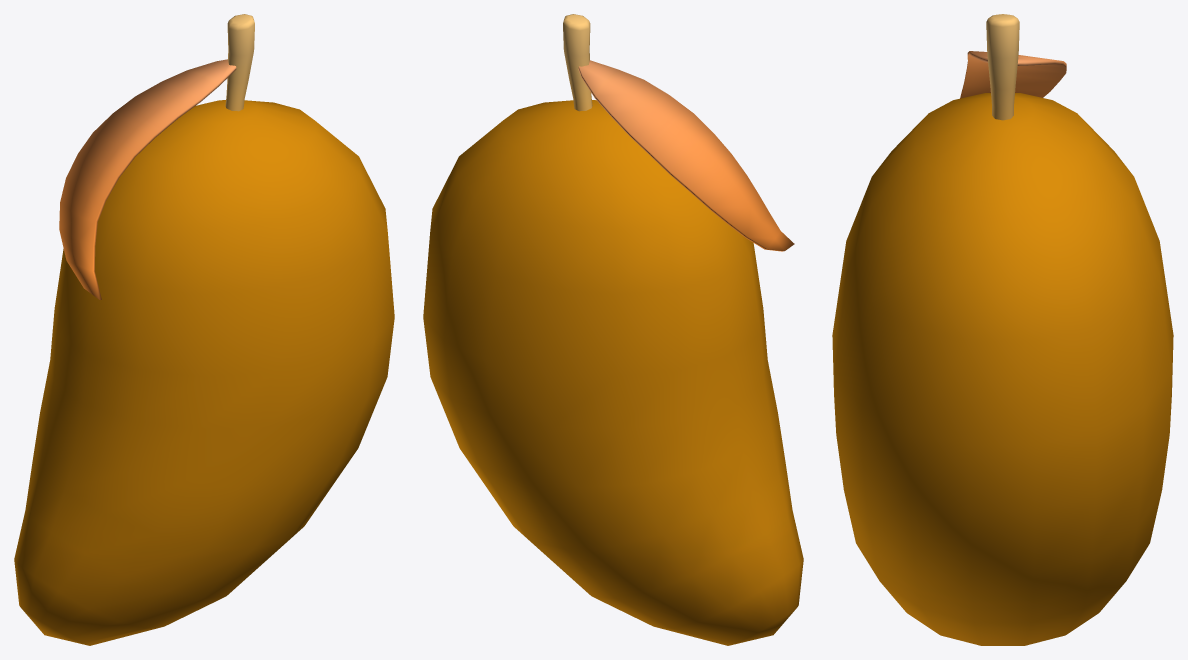
File: Mango.fbx
3 renders of one model, left to right at view 1: azimuth 30°, elevation 25°; view 2: azimuth 150°, elevation 25°; view 3: azimuth 270°, elevation 25°, orthographic. The views are drawn at different scales.
Visible parts, largest first — view 1: Mango; view 2: Mango; view 3: Mango.
Boxes of the visible parts, <box> form: Mango: <box>14,14,394,645</box>; Mango: <box>423,14,803,645</box>; Mango: <box>832,14,1173,645</box>.
Size of the model in its own units: 139 by 220 by 98.84.
